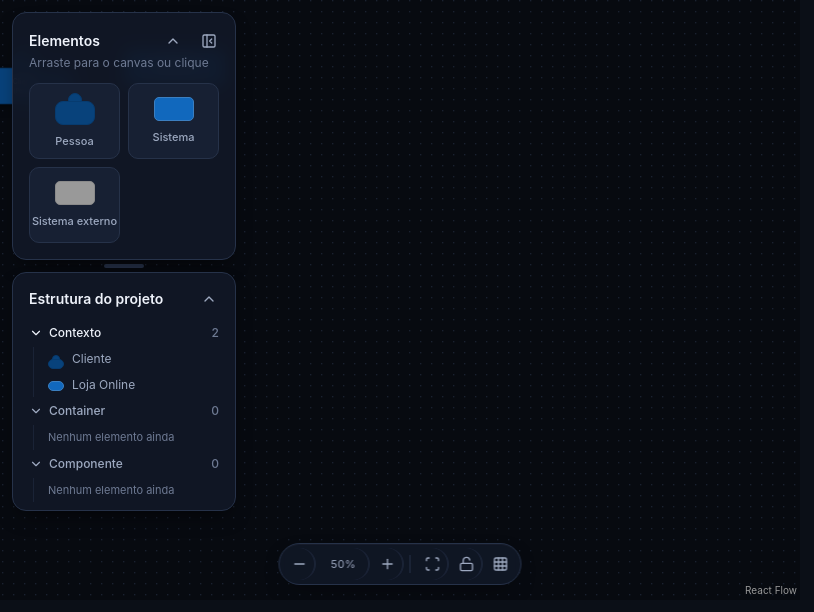
Test: DiagramCanvas › árvore dos elementos (abaixo da paleta) › deve recolher a paleta, deixando o espaço para a estrutura e tirando a divisória
Click the button named "Recolher elementos". click: (173, 41)
box: [155,23,191,59]
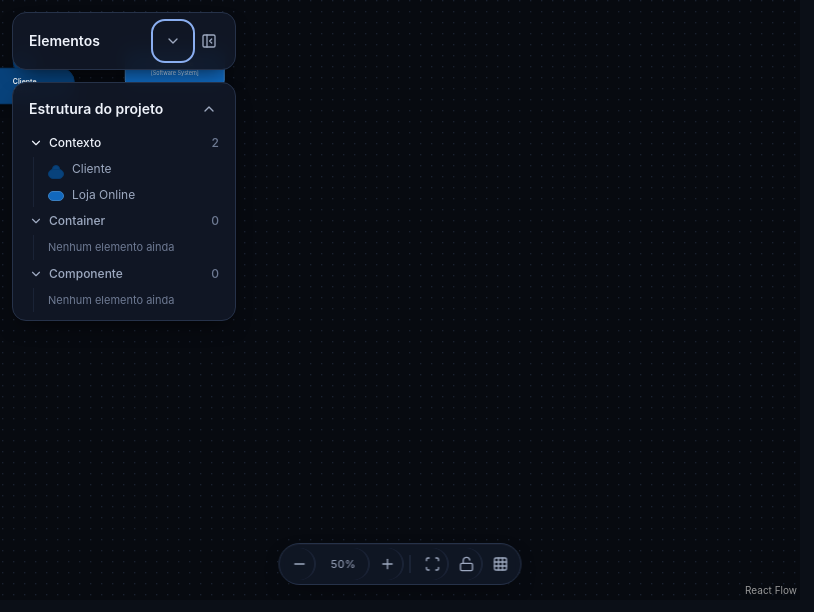
Expected: the list named "Elementos de Contexto" is shown, [33,157,227,207]
Expected: the button "Pessoa" is gone
Click the button named "Expandir elementos". click: (173, 41)
box: [155,23,191,59]
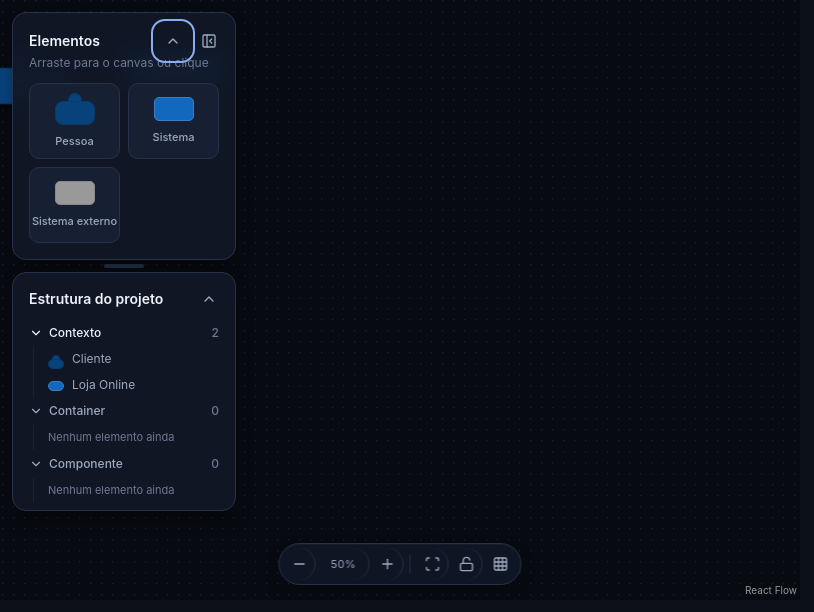
Expected: the element named "Ajustar a divisão entre elementos e estrutura" is shown, [104,264,144,268]
Expected: the button "Pessoa" is shown, [29,83,120,159]
